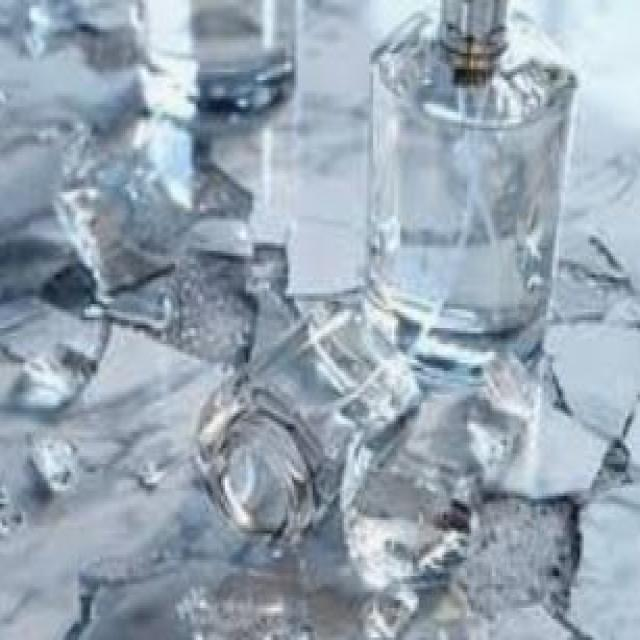electronic: (360, 0, 579, 397), (188, 301, 426, 562)
